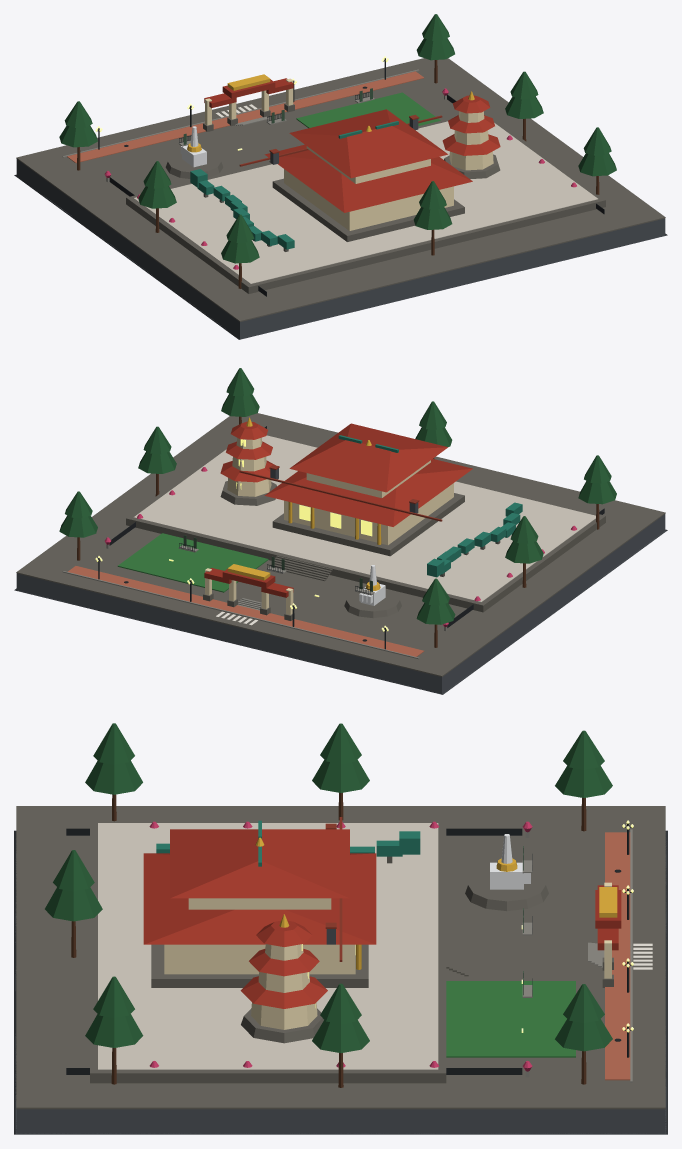
File: lm_43_chua_linh_quang.glb
3 renders of one model, top to bottom at view 1: azimuth 30°, elevation 25°; view 2: azimuth 150°, elevation 25°; view 3: azimuth 270°, elevation 25°, orthographic. The views are drawn at different scales.
Visible parts, largest first — view 1: Foundation_Plinth_Trim, LinhQuang_Courtyard_Paving, Foundation_Skirt, LinhQuang_Stone_Terrace_And_Steps, LinhQuang_Pine_Canopies, LinhQuang_Main_Hall_Upper_Roof, LinhQuang_Main_Hall_Lower_Roof, LinhQuang_Ochre_Walls, Phase2_Interlocking_Brick_Sidewalk, LinhQuang_Crimson_Curved_Roofs, LinhQuang_Garden_Lawns, LinhQuang_Ceramic_Emerald_Dragon (+5 smaller); view 2: Foundation_Plinth_Trim, LinhQuang_Courtyard_Paving, Foundation_Skirt, LinhQuang_Stone_Terrace_And_Steps, LinhQuang_Pine_Canopies, LinhQuang_Main_Hall_Upper_Roof, LinhQuang_Main_Hall_Lower_Roof, LinhQuang_Ochre_Walls, LinhQuang_Garden_Lawns, Phase2_Interlocking_Brick_Sidewalk, LinhQuang_Crimson_Curved_Roofs, LinhQuang_Ceramic_Emerald_Dragon (+5 smaller); view 3: Foundation_Plinth_Trim, LinhQuang_Courtyard_Paving, Foundation_Skirt, LinhQuang_Stone_Terrace_And_Steps, LinhQuang_Pine_Canopies, LinhQuang_Main_Hall_Upper_Roof, LinhQuang_Main_Hall_Lower_Roof, LinhQuang_Garden_Lawns, LinhQuang_Ochre_Walls, Phase2_Interlocking_Brick_Sidewalk, LinhQuang_Crimson_Curved_Roofs, Phase2_WroughtIron_Balconies_Railings_Manholes (+5 smaller).
Boxes of the visible parts, left/top/right/bottom form: Foundation_Plinth_Trim: left=16, top=58, right=665, bottom=321; LinhQuang_Courtyard_Paving: left=133, top=121, right=597, bottom=283; Foundation_Skirt: left=14, top=159, right=667, bottom=339; LinhQuang_Stone_Terrace_And_Steps: left=126, top=103, right=605, bottom=293; LinhQuang_Pine_Canopies: left=59, top=14, right=616, bottom=263; LinhQuang_Main_Hall_Upper_Roof: left=289, top=109, right=447, bottom=178; LinhQuang_Main_Hall_Lower_Roof: left=264, top=144, right=472, bottom=212; LinhQuang_Ochre_Walls: left=205, top=78, right=493, bottom=230; Phase2_Interlocking_Brick_Sidewalk: left=67, top=71, right=423, bottom=163; LinhQuang_Crimson_Curved_Roofs: left=204, top=78, right=500, bottom=155; LinhQuang_Garden_Lawns: left=296, top=92, right=440, bottom=128; LinhQuang_Ceramic_Emerald_Dragon: left=190, top=121, right=398, bottom=249; Foundation_Plinth_Trim: left=16, top=413, right=665, bottom=676; LinhQuang_Courtyard_Paving: left=133, top=435, right=595, bottom=602; Foundation_Skirt: left=14, top=514, right=667, bottom=694; LinhQuang_Stone_Terrace_And_Steps: left=126, top=433, right=605, bottom=620; LinhQuang_Pine_Canopies: left=59, top=368, right=616, bottom=624; LinhQuang_Main_Hall_Upper_Roof: left=289, top=423, right=448, bottom=492; LinhQuang_Main_Hall_Lower_Roof: left=264, top=459, right=472, bottom=526; LinhQuang_Ochre_Walls: left=205, top=437, right=453, bottom=615; LinhQuang_Garden_Lawns: left=117, top=533, right=268, bottom=592; Phase2_Interlocking_Brick_Sidewalk: left=68, top=566, right=424, bottom=656; LinhQuang_Crimson_Curved_Roofs: left=204, top=421, right=293, bottom=597; LinhQuang_Ceramic_Emerald_Dragon: left=338, top=435, right=522, bottom=577; Foundation_Plinth_Trim: left=16, top=806, right=665, bottom=1109; LinhQuang_Courtyard_Paving: left=98, top=823, right=438, bottom=1069; Foundation_Skirt: left=14, top=830, right=667, bottom=1134; LinhQuang_Stone_Terrace_And_Steps: left=90, top=820, right=613, bottom=1083; LinhQuang_Pine_Canopies: left=45, top=723, right=612, bottom=1052; LinhQuang_Main_Hall_Upper_Roof: left=170, top=829, right=349, bottom=898; LinhQuang_Main_Hall_Lower_Roof: left=143, top=853, right=376, bottom=944; LinhQuang_Garden_Lawns: left=446, top=981, right=575, bottom=1057; LinhQuang_Ochre_Walls: left=164, top=882, right=611, bottom=1029; Phase2_Interlocking_Brick_Sidewalk: left=605, top=832, right=630, bottom=1080; LinhQuang_Crimson_Curved_Roofs: left=240, top=885, right=621, bottom=1008; Phase2_WroughtIron_Balconies_Railings_Manholes: left=66, top=823, right=631, bottom=1074.
Size of the model in its own units: 88.83 by 20 by 80.75.
